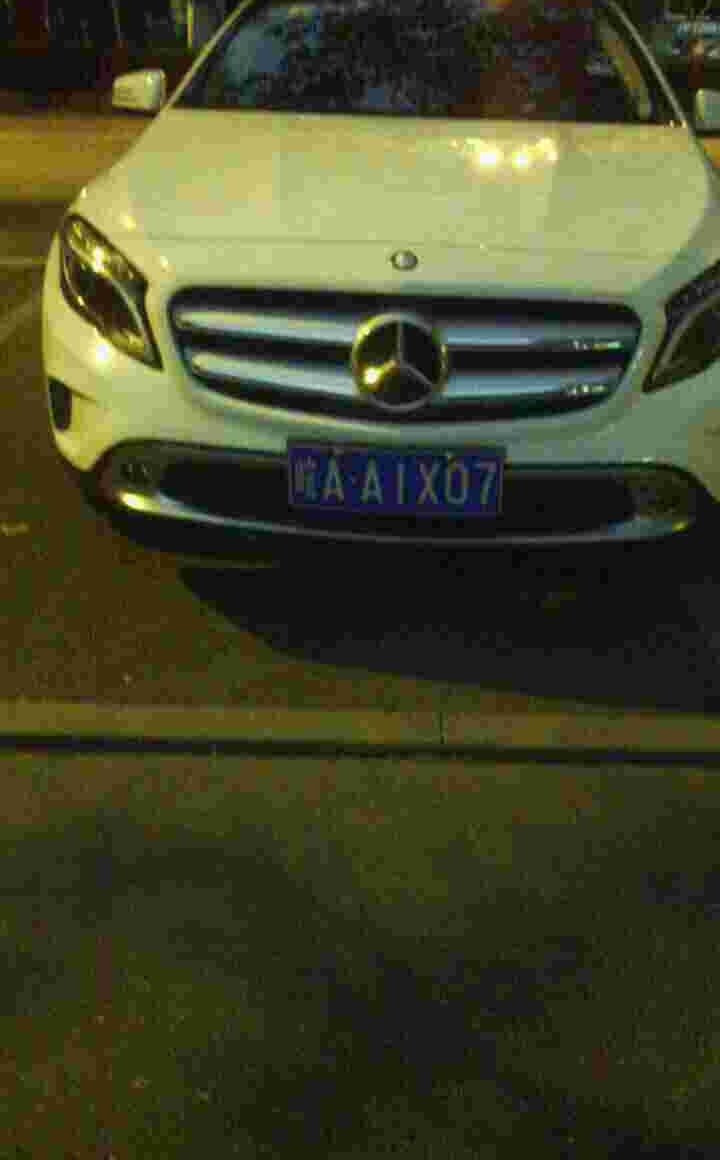license_plate: (296, 446, 510, 506)
